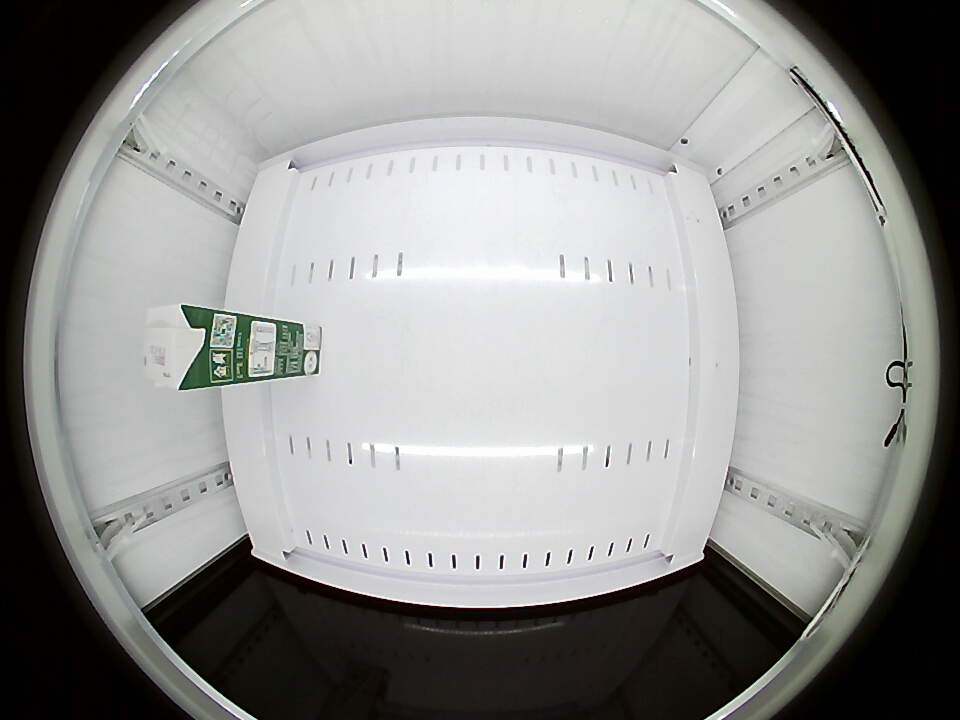jindian: (141, 304, 226, 392)
